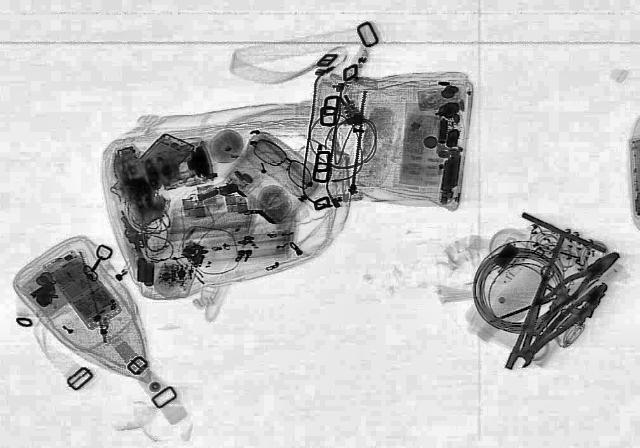Pliers: (525, 247, 627, 321)
Wrench: (504, 266, 558, 364)
